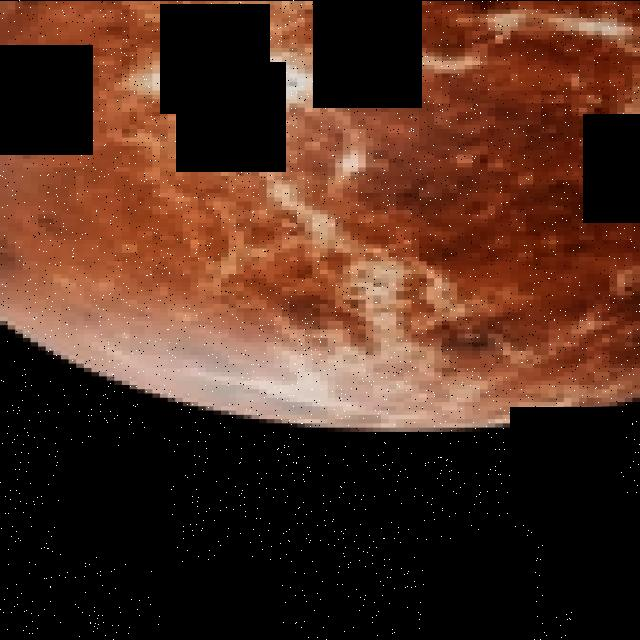Venus: (0, 0, 640, 435)
